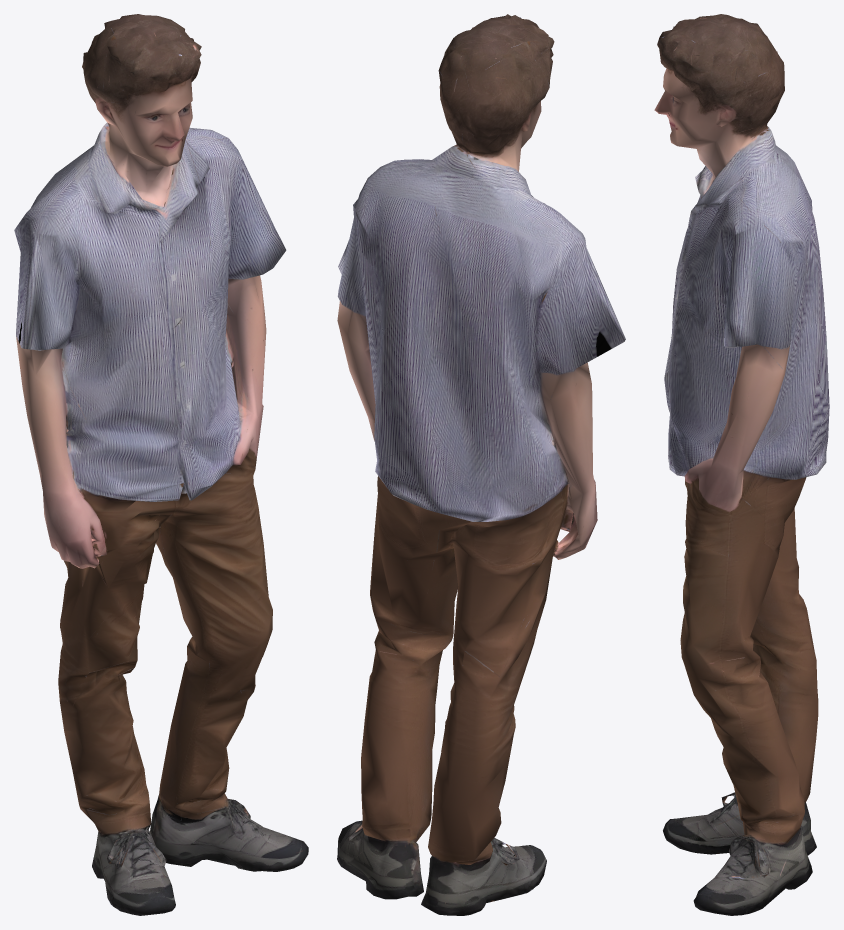
The model's file is Noah.glb.
3 renders of one model, left to right at view 1: azimuth 30°, elevation 25°; view 2: azimuth 150°, elevation 25°; view 3: azimuth 270°, elevation 25°, orthographic. The views are drawn at different scales.
Visible parts, largest first — view 1: Mesh1.0; view 2: Mesh1.0; view 3: Mesh1.0.
Boxes of the visible parts, x1,y1,x2,y2 form: Mesh1.0: (14, 14, 308, 915); Mesh1.0: (337, 14, 625, 915); Mesh1.0: (654, 14, 829, 915).
Bounding box in the file's own units: 0.6518 × 1.91 × 0.3672.
Materials: 1 (1 with a texture image).
